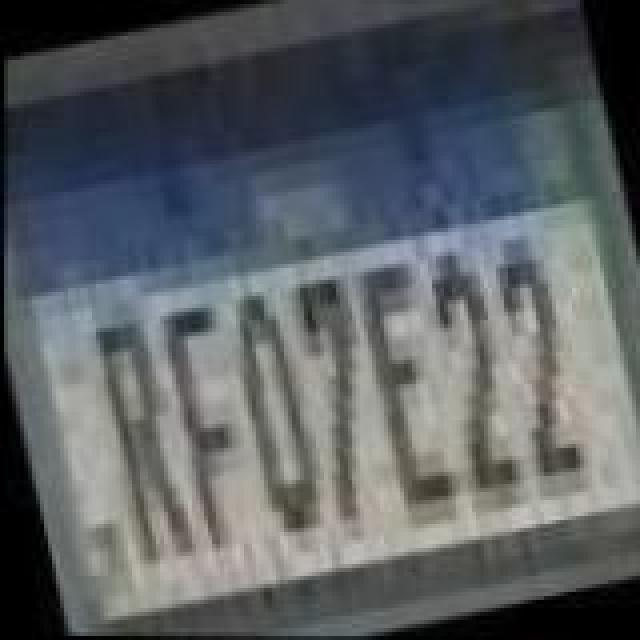2: (480, 226, 600, 494), (416, 242, 532, 510)
7: (274, 266, 402, 530)
E: (344, 258, 476, 526)
F: (150, 296, 274, 560)
O: (214, 286, 334, 542)
R: (86, 308, 210, 572)
